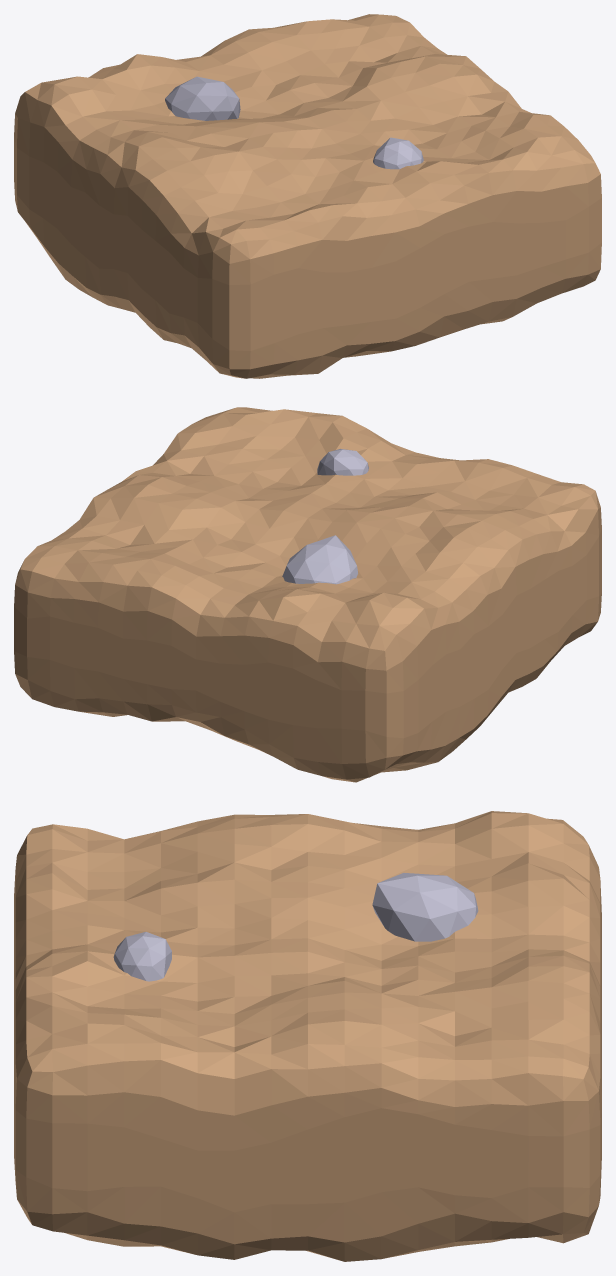
Rendered from dirt2highlighted.fbx.
3 renders of one model, top to bottom at view 1: azimuth 30°, elevation 25°; view 2: azimuth 150°, elevation 25°; view 3: azimuth 270°, elevation 25°, orthographic. The views are drawn at different scales.
Parts seen in each view (by area): view 1: Cube, Icosphere, Icosphere.002; view 2: Cube, Icosphere, Icosphere.002; view 3: Cube, Icosphere, Icosphere.002.
Part boxes in pixels (x1,y1,x2,y2): Cube: [14, 14, 601, 378]; Icosphere: [165, 76, 240, 120]; Icosphere.002: [373, 137, 423, 169]; Cube: [14, 407, 601, 782]; Icosphere: [282, 535, 357, 584]; Icosphere.002: [317, 448, 368, 475]; Cube: [14, 811, 601, 1261]; Icosphere: [372, 873, 478, 941]; Icosphere.002: [113, 932, 171, 981].
Bounding box in the file's own units: 200 × 93.11 × 200.
